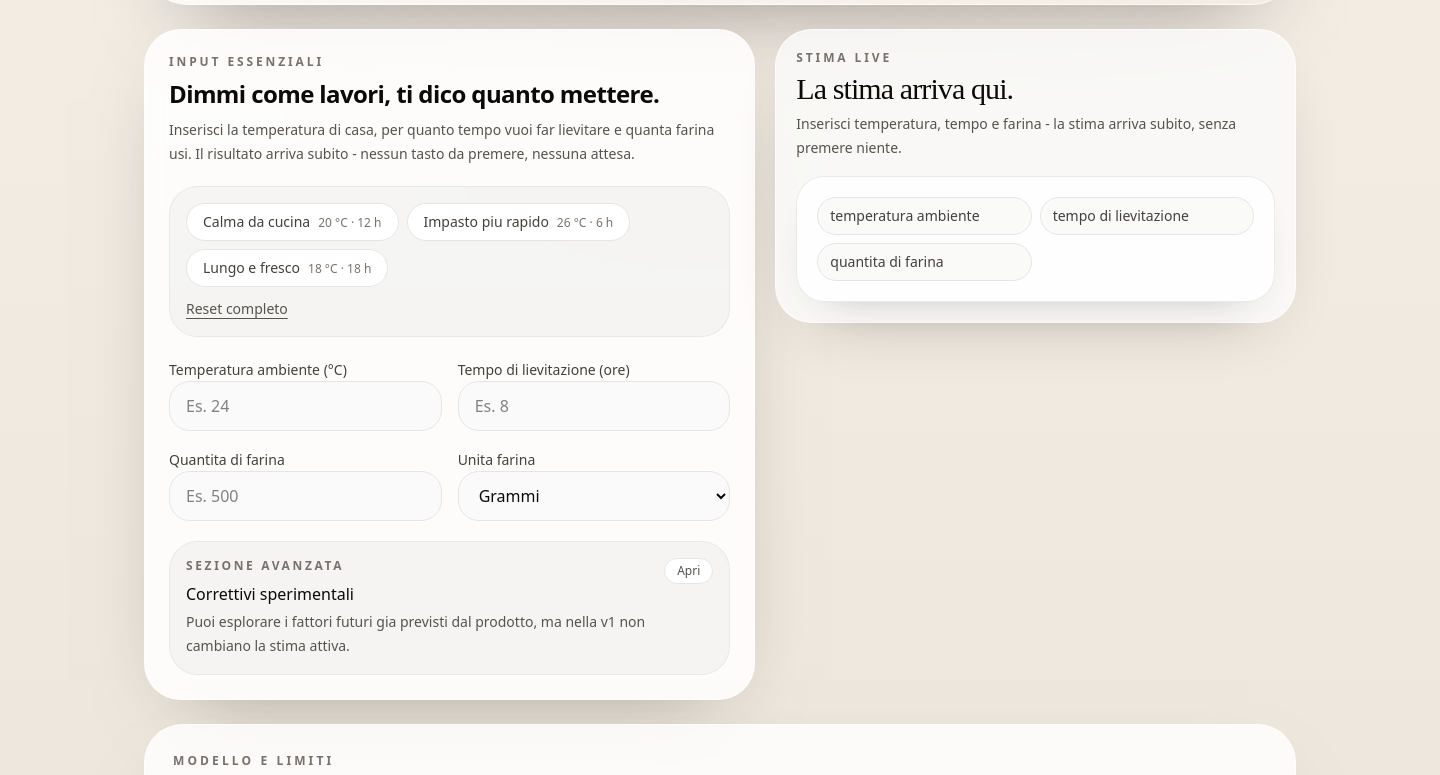
home page calculator flow › updates the result live and shows trust context when input becomes valid
(page scrolled)
In the field labelled "Temperatura ambiente (°C)": (305, 406) [169,381,442,431], type "24"
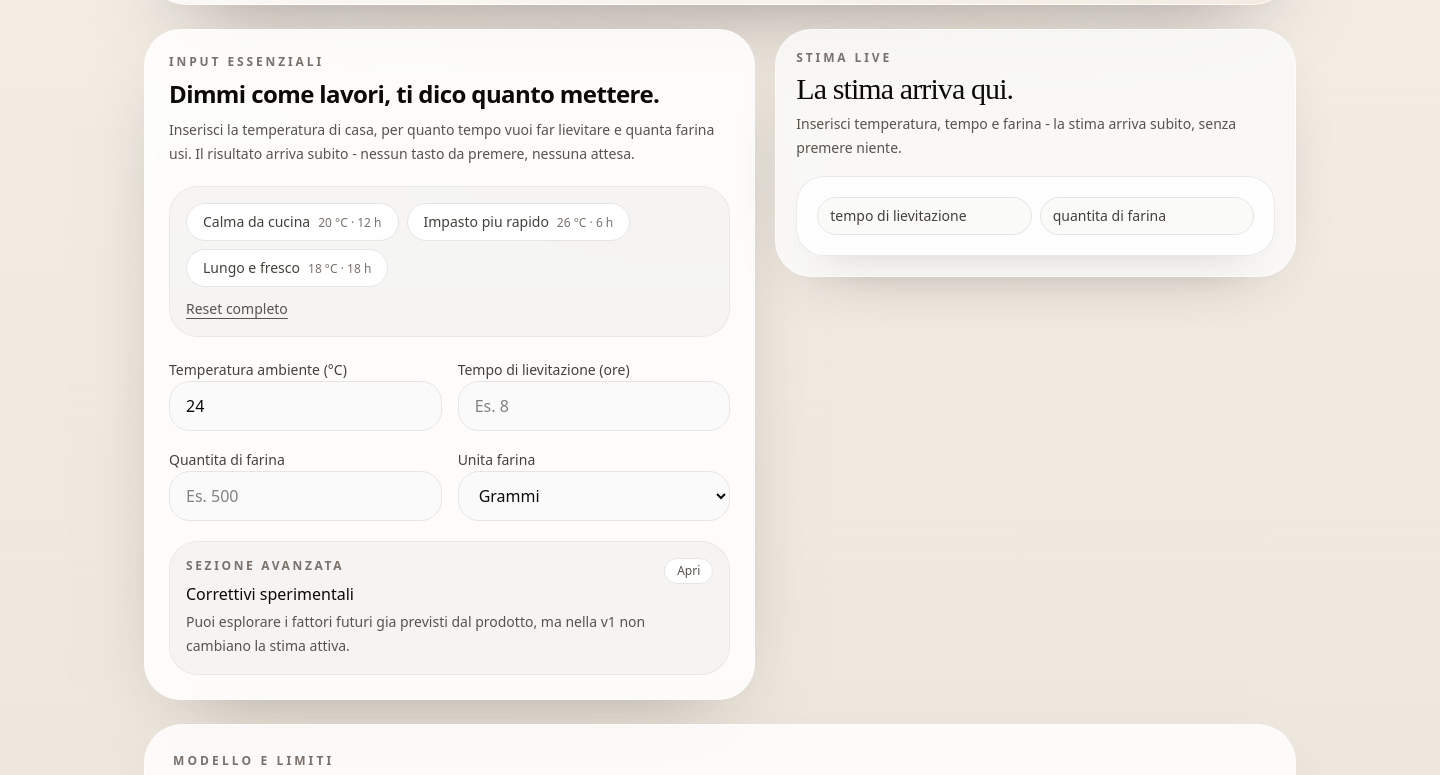
In the field labelled "Tempo di lievitazione (ore)": (594, 406) [458,381,730,431], type "8"
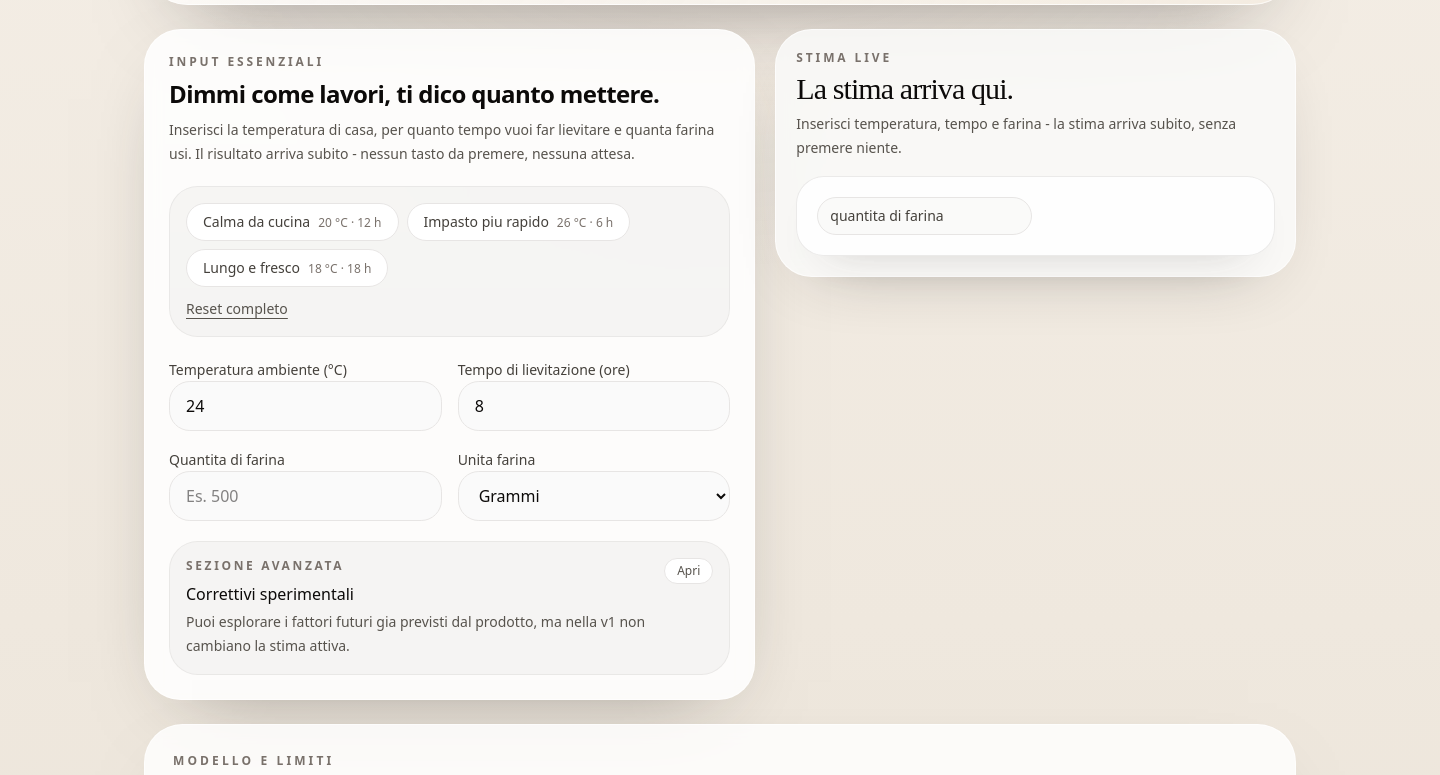
In the field labelled "Quantita di farina": (305, 496) [169,471,442,521], type "500"
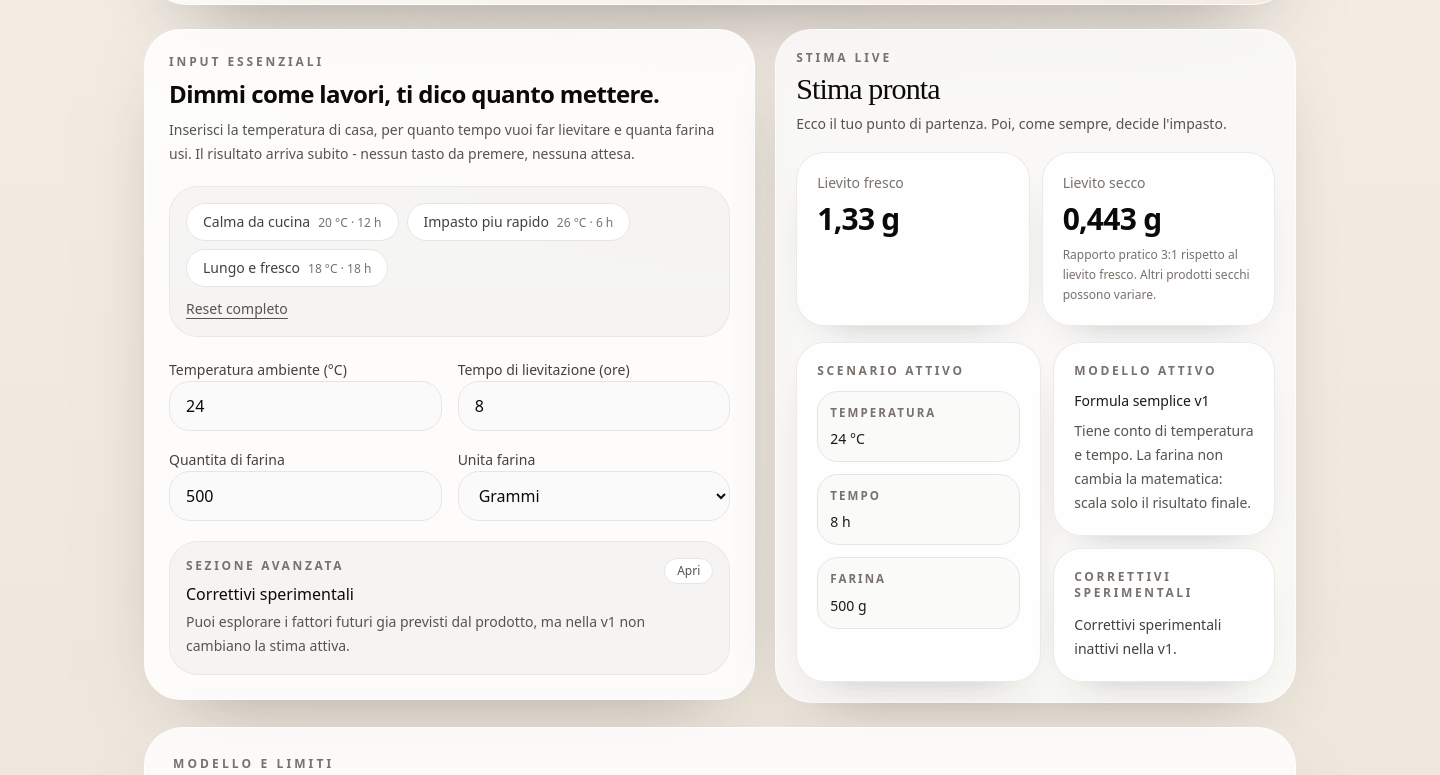
expect the text "Scenario attivo" is shown: met, box [817,362,965,379]
expect the text "Formula semplice v1" is shown: met, box [1074,391,1210,410]
expect the text "Correttivi sperimentali inattivi nella v1." is shown: met, box [1074,615,1221,658]
